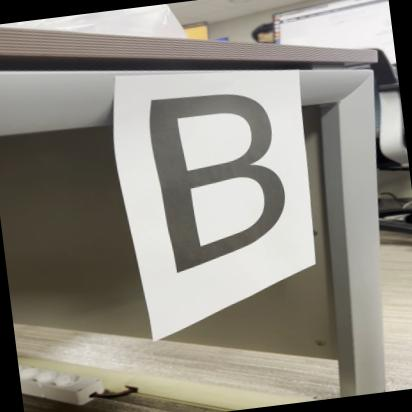seat: (119, 66, 299, 307)
